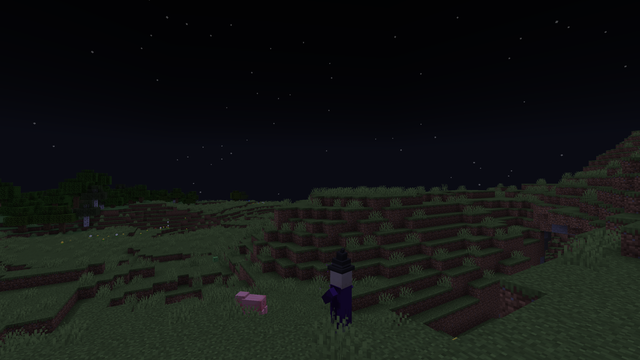cochons: (242, 291, 265, 317)
slimes: (212, 256, 217, 262)
sorcieres: (327, 262, 354, 338)
